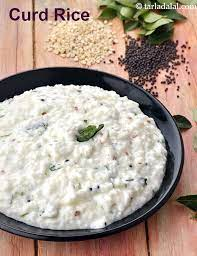curd_rice: (3, 73, 162, 240)
